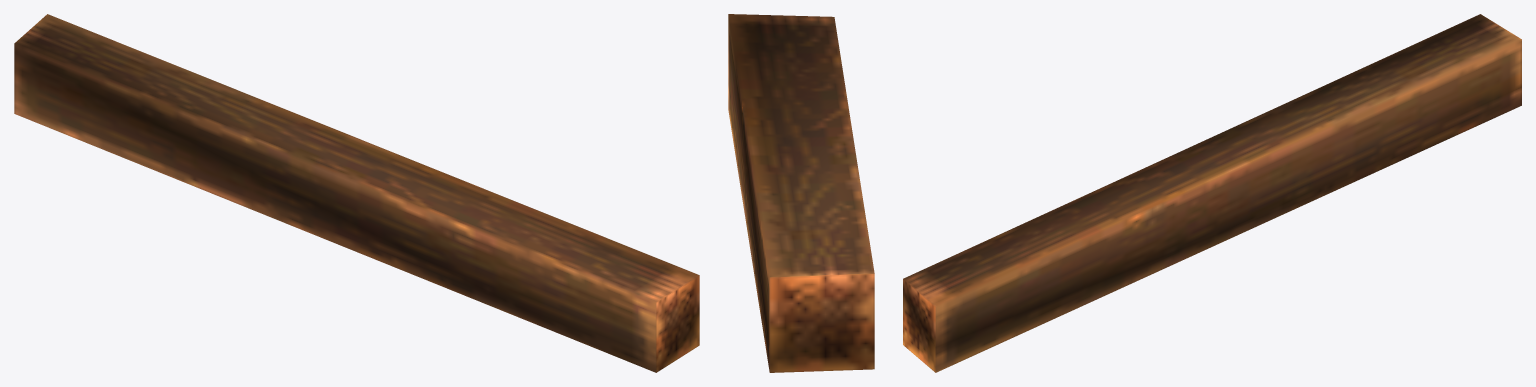
File: SWORDLIGHT20_JAILBRACE09.fbx
3 views of the same model, side by side, from view 1: azimuth 30°, elevation 25°; view 2: azimuth 150°, elevation 25°; view 3: azimuth 270°, elevation 25° (orthographic). The views are drawn at different scales.
Parts seen in each view (by area): view 1: SWORDLIGHT20_JAILBRACE09; view 2: SWORDLIGHT20_JAILBRACE09; view 3: SWORDLIGHT20_JAILBRACE09.
Part boxes in pixels (left/top/right/bottom): SWORDLIGHT20_JAILBRACE09: left=14, top=14, right=699, bottom=372; SWORDLIGHT20_JAILBRACE09: left=728, top=14, right=874, bottom=372; SWORDLIGHT20_JAILBRACE09: left=903, top=14, right=1521, bottom=372.
Bounding box in the file's own units: 23639 × 10663 × 33886.
Materials: 1 (1 with a texture image).
